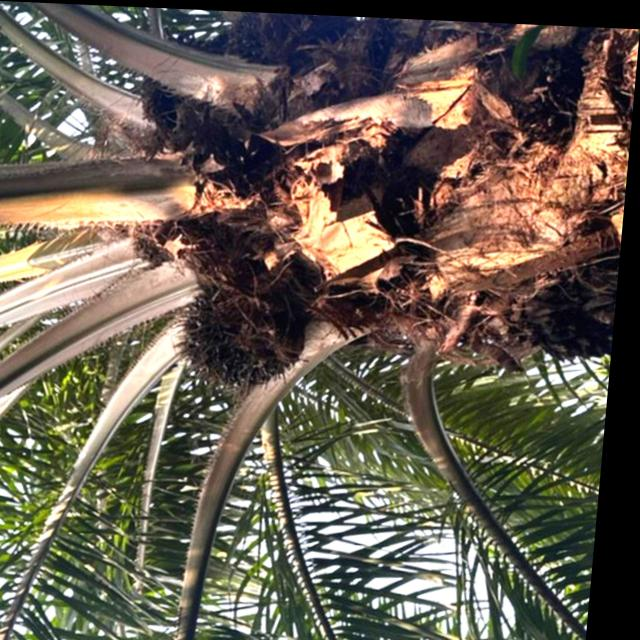unripe: (180, 268, 323, 407)
